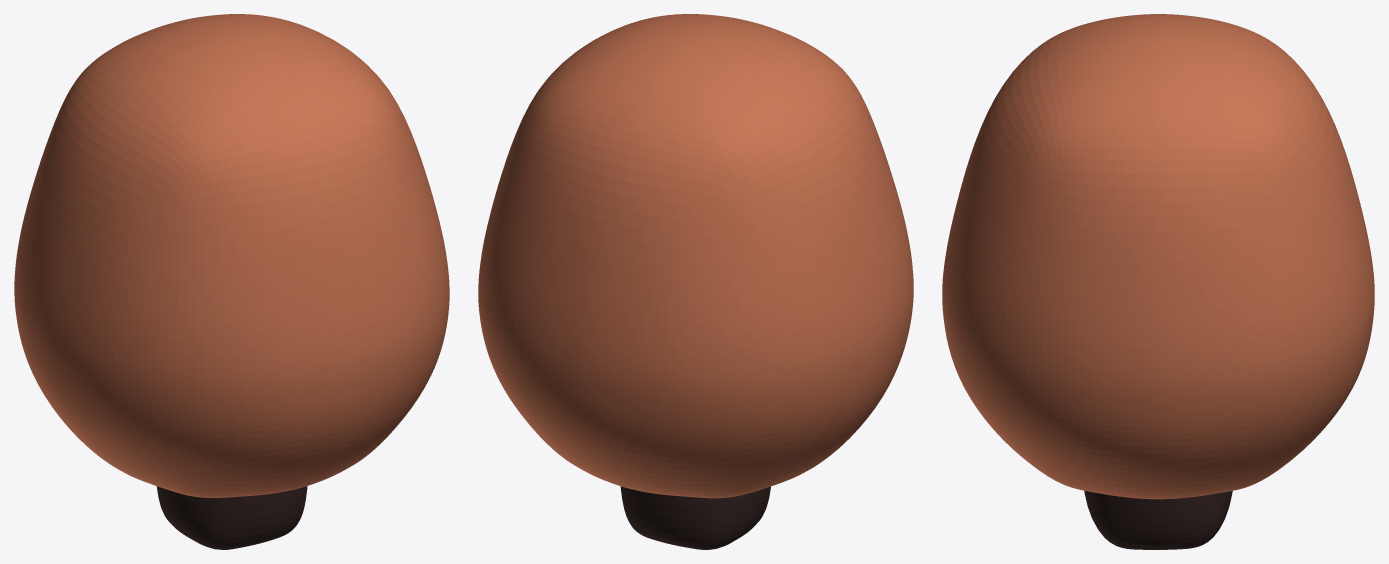
The model's file is palerangetree.fbx.
3 renders of one model, left to right at view 1: azimuth 30°, elevation 25°; view 2: azimuth 150°, elevation 25°; view 3: azimuth 270°, elevation 25°, orthographic.
Visible parts, largest first — view 1: Roundcube.025, Roundcube.026; view 2: Roundcube.025, Roundcube.026; view 3: Roundcube.025, Roundcube.026.
Boxes of the visible parts, x1,y1,x2,y2 form: Roundcube.025: [14, 14, 449, 497]; Roundcube.026: [156, 486, 307, 549]; Roundcube.025: [478, 14, 913, 498]; Roundcube.026: [620, 486, 770, 549]; Roundcube.025: [942, 14, 1374, 499]; Roundcube.026: [1084, 490, 1232, 549].
Size of the model in its own units: 199 by 252 by 199.
